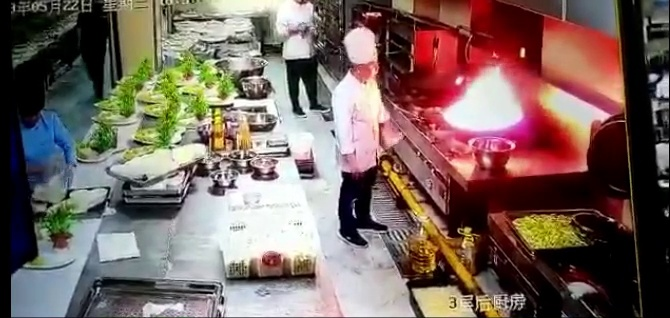fire: (442, 57, 526, 128)
